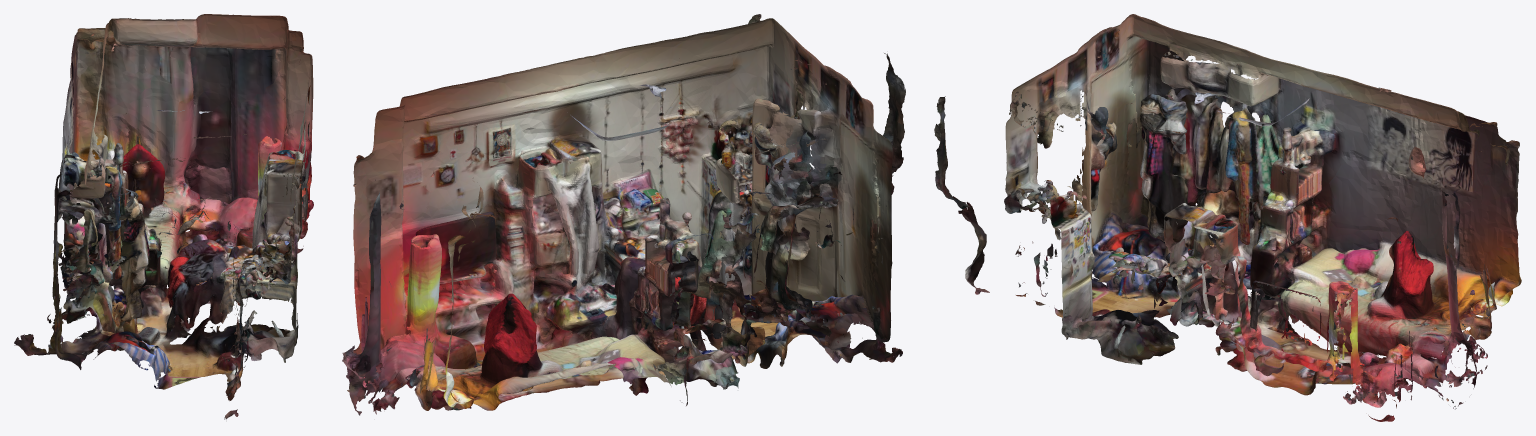
File: REI WEB.glb
3 renders of one model, left to right at view 1: azimuth 30°, elevation 25°; view 2: azimuth 150°, elevation 25°; view 3: azimuth 270°, elevation 25°, orthographic. The views are drawn at different scales.
Visible parts, largest first — view 1: mesh; view 2: mesh; view 3: mesh.
Part boxes in pixels (left/top/right/bottom): mesh: left=14, top=14, right=313, bottom=419; mesh: left=342, top=14, right=905, bottom=415; mesh: left=934, top=14, right=1521, bottom=421.
Bounding box in the file's own units: 4.09 × 2.38 × 5.14.
Materials: 1 (1 with a texture image).
